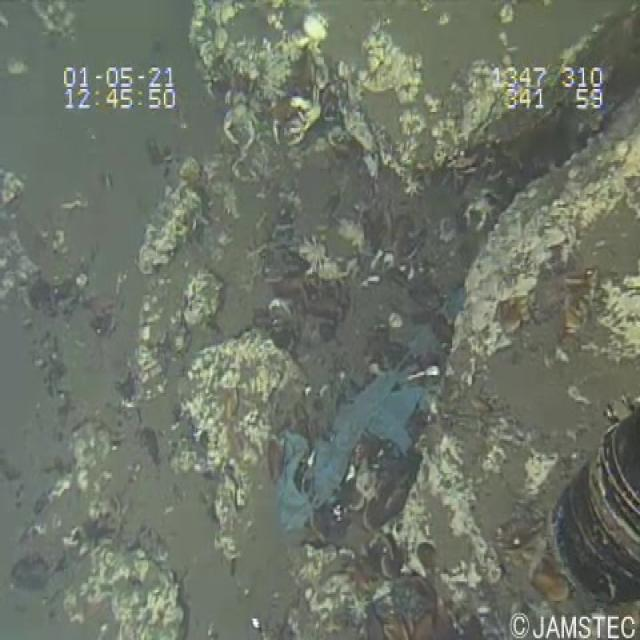plastic: (265, 308, 444, 542)
